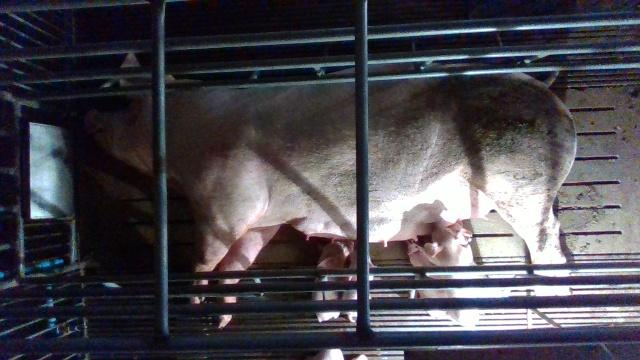piglet: (423, 220, 482, 326), (312, 239, 354, 322), (406, 222, 473, 269), (343, 245, 377, 322)
sow-sleep-lactate: (84, 65, 576, 328)
